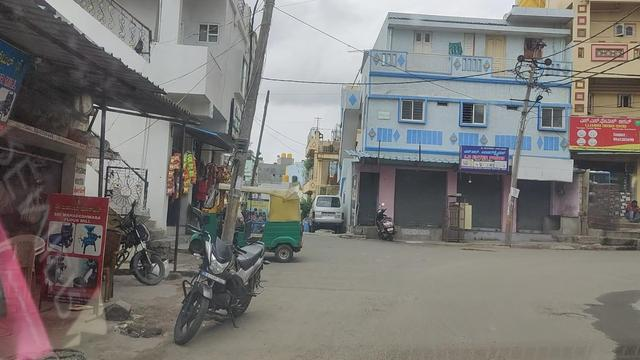RoadDamages: (546, 302, 596, 331), (296, 279, 352, 297)
